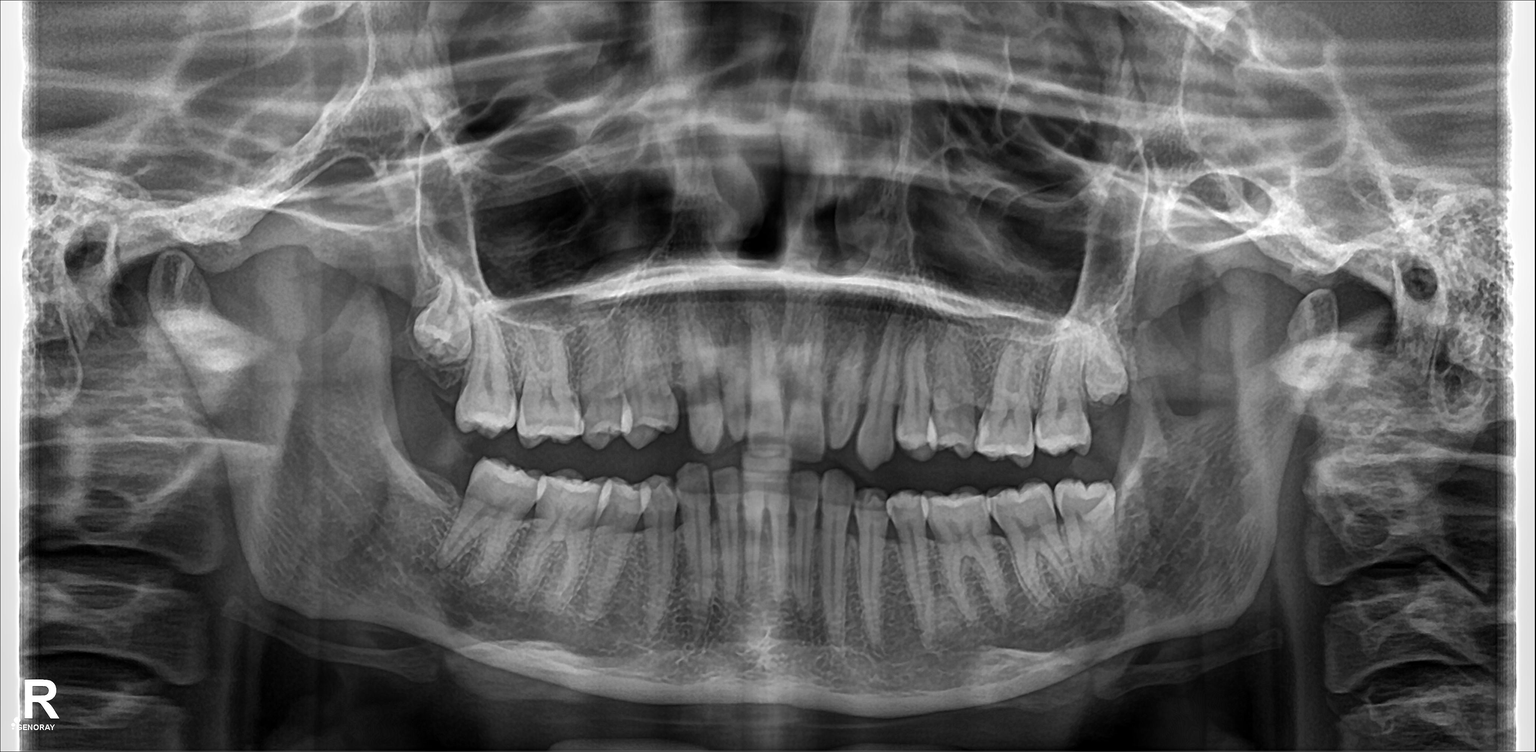Impacted Third Molar: (412, 261, 475, 365), (1091, 324, 1125, 402)
Missing Tooth: (406, 434, 463, 533)
